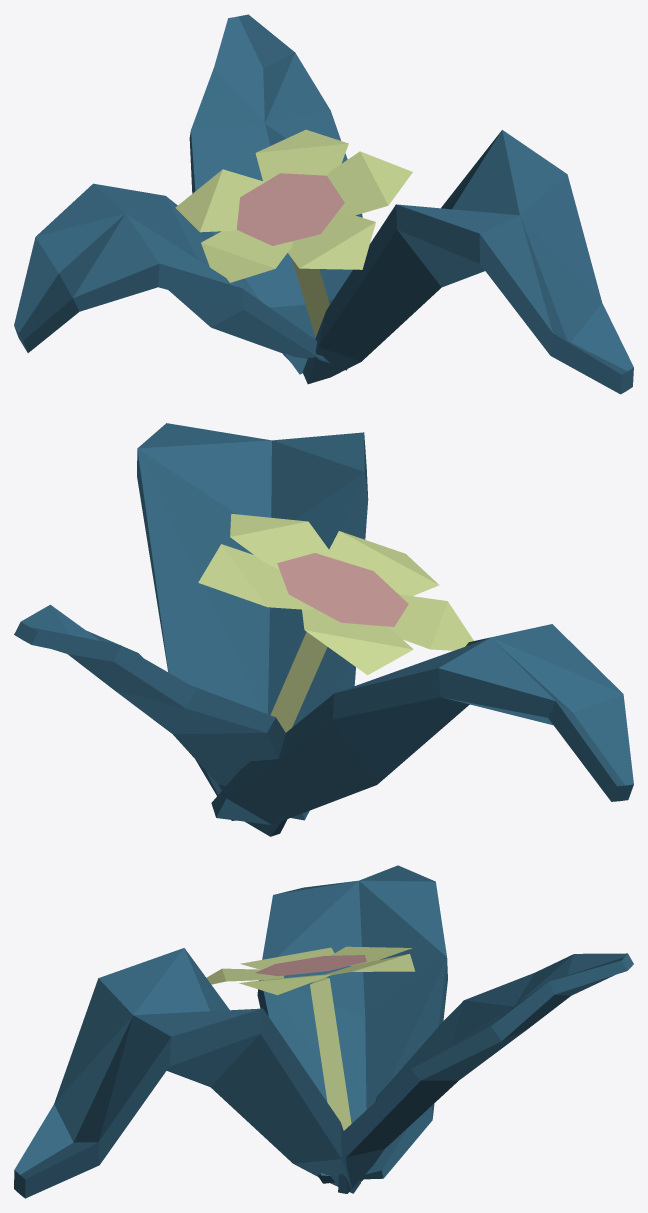
Rendered from fbBush8.fbx.
3 renders of one model, top to bottom at view 1: azimuth 30°, elevation 25°; view 2: azimuth 150°, elevation 25°; view 3: azimuth 270°, elevation 25°, orthographic. The views are drawn at different scales.
Parts seen in each view (by area): view 1: group199; view 2: group199; view 3: group199.
Boxes of the visible parts, x1,y1,x2,y2 form: group199: (14,14,633,394); group199: (14,423,633,836); group199: (14,865,633,1198).
Size of the model in its own units: 72.69 by 37.2 by 82.24.
